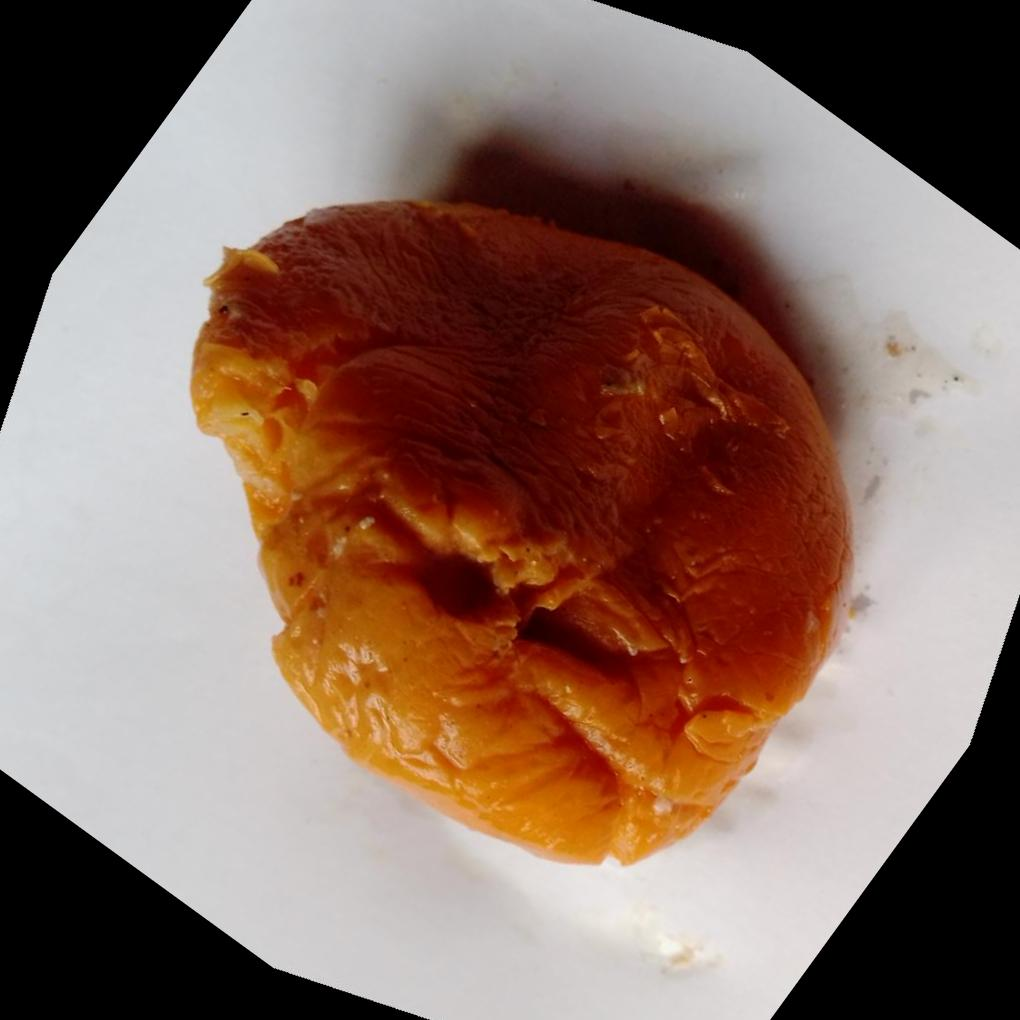FreshOrange: (184, 195, 856, 869)
